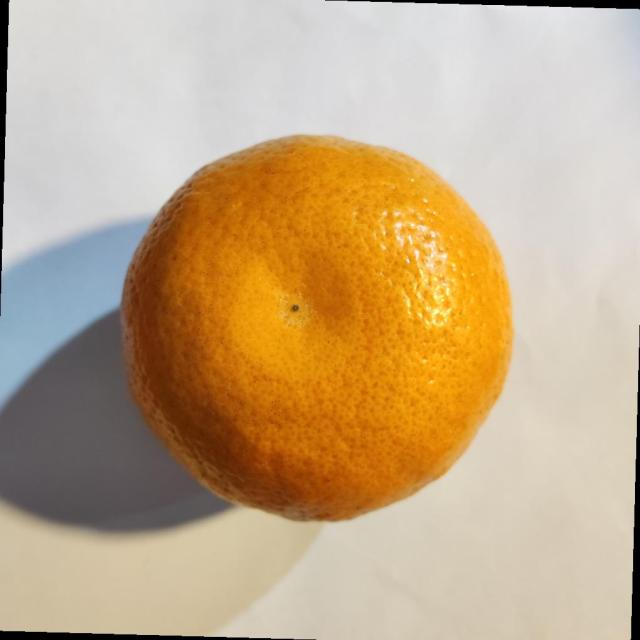fresh orange: (119, 132, 515, 523)
